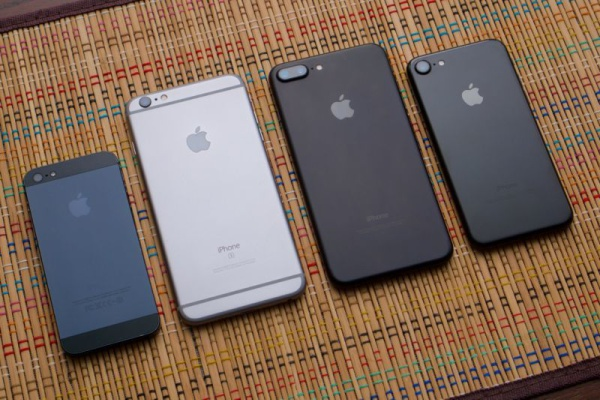apple: (451, 77, 498, 128), (184, 122, 240, 160), (63, 181, 96, 237), (323, 83, 361, 129)
